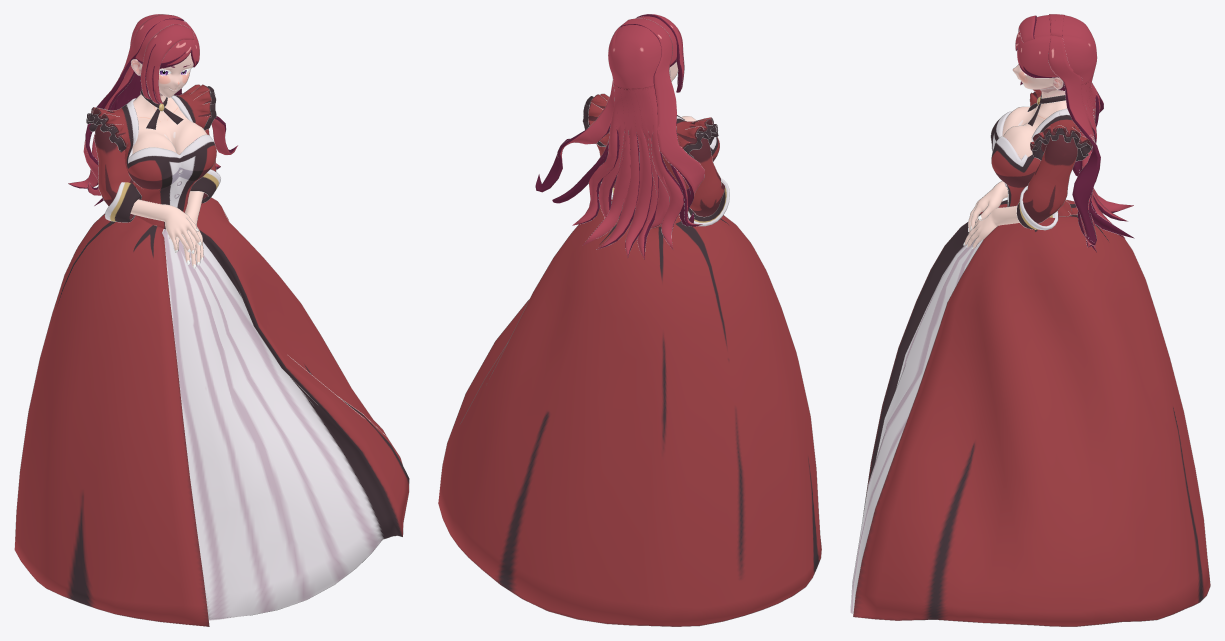
File: avatar.glb
3 views of the same model, side by side, from view 1: azimuth 30°, elevation 25°; view 2: azimuth 150°, elevation 25°; view 3: azimuth 270°, elevation 25° (orthographic). The views are drawn at different scales.
Parts seen in each view (by area): view 1: Dress, Hair.001, Body; view 2: Dress, Hair.001; view 3: Dress, Hair.001, Body.
Part boxes in pixels (<box>): Dress: <box>14,84,409,626</box>; Hair.001: <box>68,14,237,206</box>; Body: <box>130,53,207,268</box>; Dress: <box>438,93,821,626</box>; Hair.001: <box>535,14,704,259</box>; Dress: <box>850,89,1210,626</box>; Hair.001: <box>1015,14,1134,252</box>; Body: <box>963,51,1066,248</box>.
Size of the model in its own units: 1.12 by 1.71 by 0.9715.
13 materials, 10 textured.
